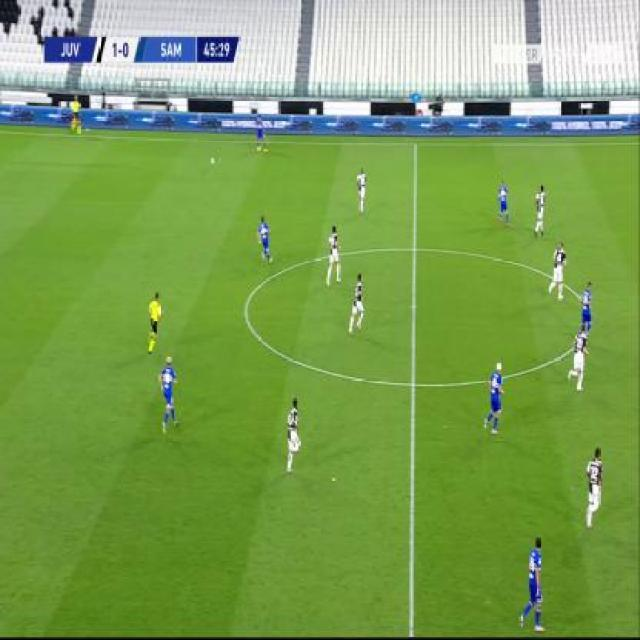ball: (210, 156, 216, 165)
player: (517, 532, 546, 634), (483, 358, 508, 437), (583, 444, 605, 529), (158, 354, 180, 433), (283, 394, 302, 473), (569, 322, 589, 393), (548, 240, 568, 303), (146, 289, 165, 354), (347, 271, 366, 334), (324, 223, 343, 286), (578, 279, 594, 339), (256, 214, 273, 263), (532, 182, 546, 238), (496, 178, 510, 229), (255, 113, 269, 153), (69, 93, 82, 135), (356, 166, 367, 214)
